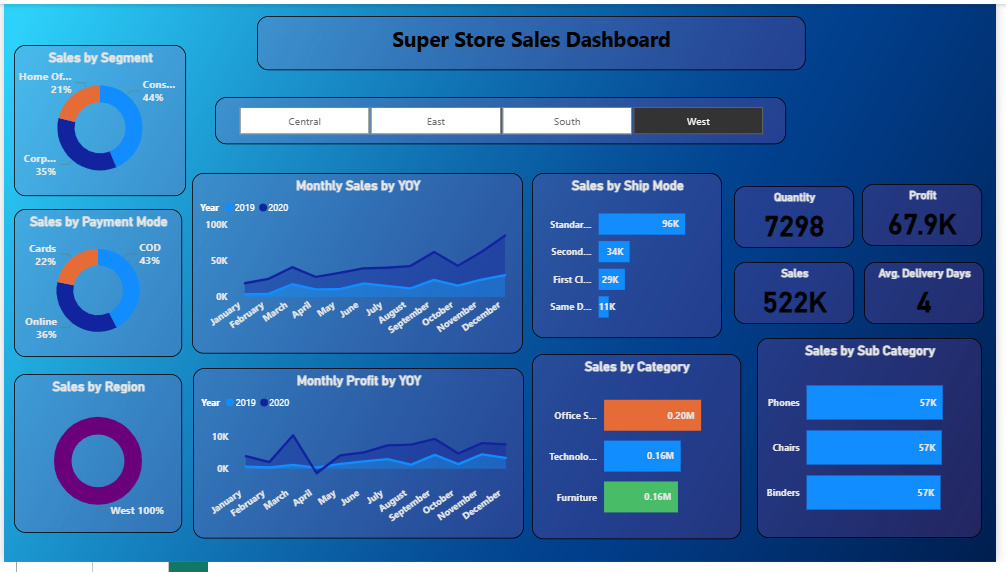

This screenshot's page, from the dashboard's own definition file:
{"tool":"powerbi","page":{"name":"Page 1","canvas":[1280,720],"ordinal":0},"visuals":[{"type":"clusteredBarChart","title":"Sales by Category","fields":{"Category":["SuperStore_Sales_Dataset.Category"],"Y":["Sum(SuperStore_Sales_Dataset.Sales)"]},"box":[681.3,451.6,269.7,238.7],"z":0},{"type":"clusteredBarChart","title":"Sales by Sub Category","fields":{"Y":["Sum(SuperStore_Sales_Dataset.Sales)"],"Category":["SuperStore_Sales_Dataset.Sub-Category"]},"box":[971.6,431,290.3,258.1],"z":1000},{"type":"clusteredBarChart","title":"Sales by Ship Mode","fields":{"Y":["Sum(SuperStore_Sales_Dataset.Sales)"],"Category":["SuperStore_Sales_Dataset.Ship Mode"]},"box":[681.3,218.1,245.2,212.9],"z":2000},{"type":"stackedAreaChart","title":"Monthly Sales by YOY","fields":{"Y":["Sum(SuperStore_Sales_Dataset.Sales)"],"Series":["SuperStore_Sales_Dataset.Order Date.Variation.Date Hierarchy.Year"],"Category":["SuperStore_Sales_Dataset.Order Date.Variation.Date Hierarchy.Month","SuperStore_Sales_Dataset.Order Date.Variation.Date Hierarchy.Day"]},"box":[242.9,218.6,427.1,232.9],"z":3000},{"type":"stackedAreaChart","title":"Monthly Profit by YOY","fields":{"Series":["SuperStore_Sales_Dataset.Order Date.Variation.Date Hierarchy.Year"],"Category":["SuperStore_Sales_Dataset.Order Date.Variation.Date Hierarchy.Month","SuperStore_Sales_Dataset.Order Date.Variation.Date Hierarchy.Day"],"Y":["Sum(SuperStore_Sales_Dataset.Profit)"]},"box":[243.3,470,426.7,220],"z":4000},{"type":"donutChart","title":"Sales by Segment","fields":{"Category":["SuperStore_Sales_Dataset.Segment"],"Y":["Sum(SuperStore_Sales_Dataset.Sales)"]},"box":[12.9,52.9,221.9,194.8],"z":6000},{"type":"donutChart","title":"Sales by Payment Mode","fields":{"Category":["SuperStore_Sales_Dataset.Payment Mode"],"Y":["Sum(SuperStore_Sales_Dataset.Sales)"]},"box":[12.9,264.5,216.8,191],"z":7000},{"type":"donutChart","title":"Sales by Region","fields":{"Category":["SuperStore_Sales_Dataset.Region"],"Y":["Sum(SuperStore_Sales_Dataset.Sales)"]},"box":[12.9,477.4,216.8,205.2],"z":8000},{"type":"slicer","fields":{"Values":["SuperStore_Sales_Dataset.Region"]},"box":[271.8,120,737.3,60.7],"z":9000},{"type":"textbox","box":[326.7,15,708.3,70],"z":10000},{"type":"card","title":"Sales","fields":{"Values":["Sum(SuperStore_Sales_Dataset.Sales)"]},"box":[941.7,333.3,155,80],"z":11000},{"type":"card","title":"Quantity","fields":{"Values":["Sum(SuperStore_Sales_Dataset.Quantity)"]},"box":[941.7,235,155,80],"z":12000},{"type":"card","title":"Profit","fields":{"Values":["Sum(SuperStore_Sales_Dataset.Profit)"]},"box":[1106.7,231.7,155,80],"z":13000},{"type":"card","title":"Avg. Delivery Days","fields":{"Values":["Avg(SuperStore_Sales_Dataset.AvgDelivery)"]},"box":[1110,333.3,155,80],"z":14000}]}

Visuals, with their boxes in screenshot pixels (x1, y1, x2, y2), scaled from the page's 1280x720 canvas onto the 1006x572 screenshot:
"Sales by Category" clusteredBarChart: [535,359,747,548]
"Sales by Sub Category" clusteredBarChart: [764,342,992,547]
"Sales by Ship Mode" clusteredBarChart: [535,173,728,342]
"Monthly Sales by YOY" stackedAreaChart: [191,174,527,359]
"Monthly Profit by YOY" stackedAreaChart: [191,373,527,548]
"Sales by Segment" donutChart: [10,42,185,197]
"Sales by Payment Mode" donutChart: [10,210,181,362]
"Sales by Region" donutChart: [10,379,181,542]
slicer - SuperStore_Sales_Dataset.Region: [214,95,793,144]
textbox: [257,12,813,68]
"Sales" card: [740,265,862,328]
"Quantity" card: [740,187,862,250]
"Profit" card: [870,184,992,248]
"Avg. Delivery Days" card: [872,265,994,328]
